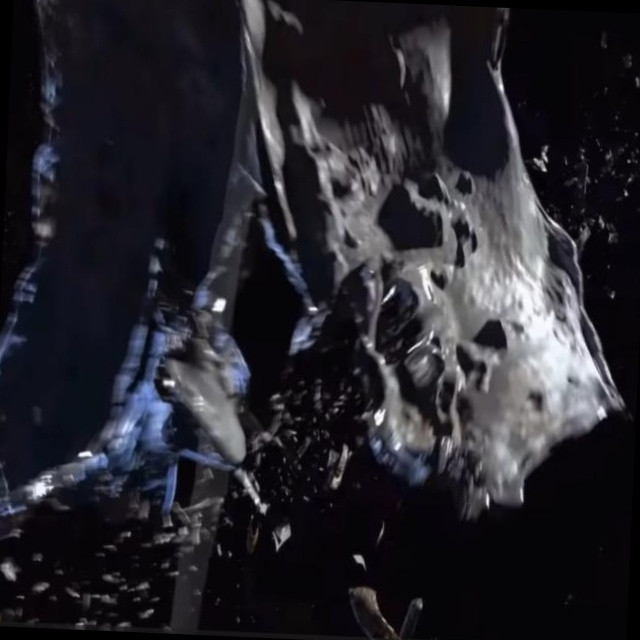large_debris: (213, 0, 640, 524), (124, 263, 305, 538), (341, 564, 430, 640)
